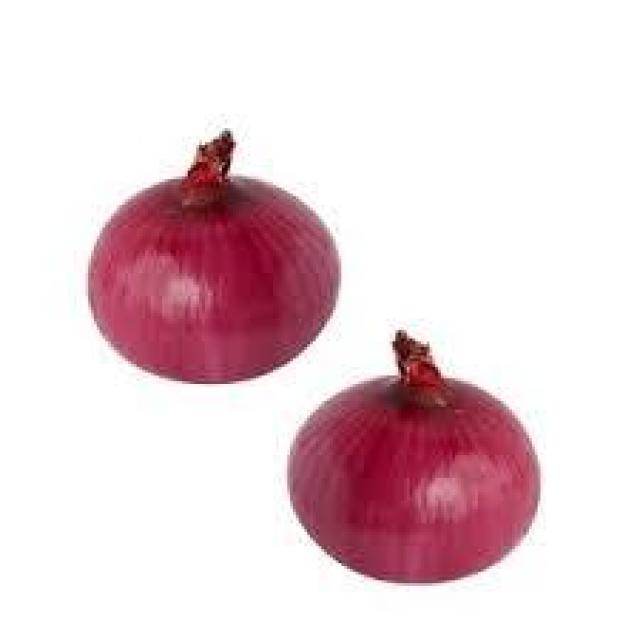Onion: (70, 120, 351, 396), (280, 324, 553, 592)
